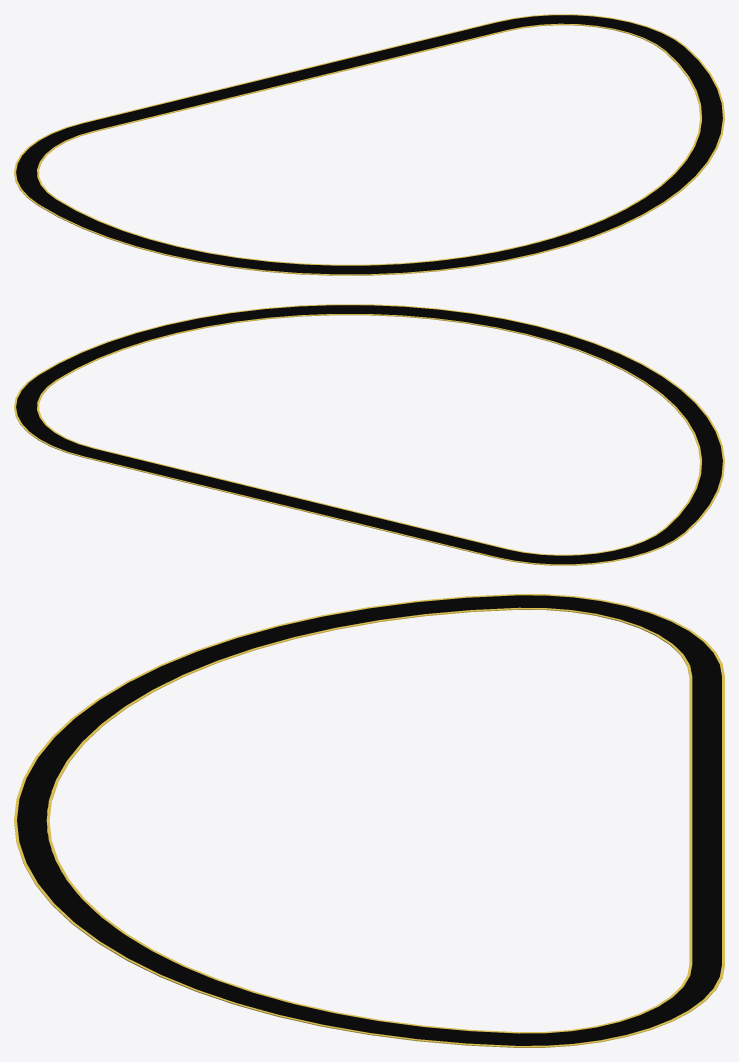
Rendered from SimpleTrackLarge.dae.
3 views of the same model, one above another, from view 1: azimuth 30°, elevation 25°; view 2: azimuth 150°, elevation 25°; view 3: azimuth 270°, elevation 25° (orthographic). The views are drawn at different scales.
Visible parts, largest first — view 1: Pavement, Curb; view 2: Pavement, Curb; view 3: Pavement, Curb.
Part boxes in pixels (x1,y1,x2,y2): Pavement: (16,15,722,274); Curb: (14,14,724,275); Pavement: (16,305,722,564); Curb: (14,304,724,565); Pavement: (17,595,721,1045); Curb: (14,594,724,1047).
Size of the model in its own units: 72.25 by 47.91 by 0.06.
